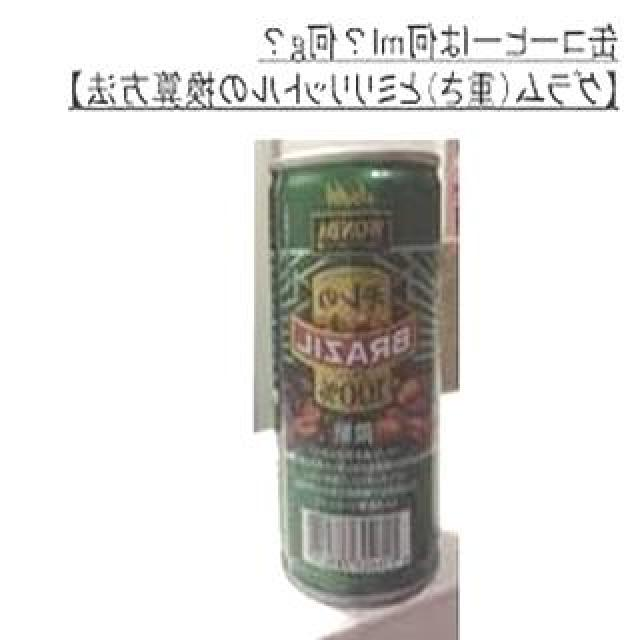Can: (256, 149, 444, 617)
